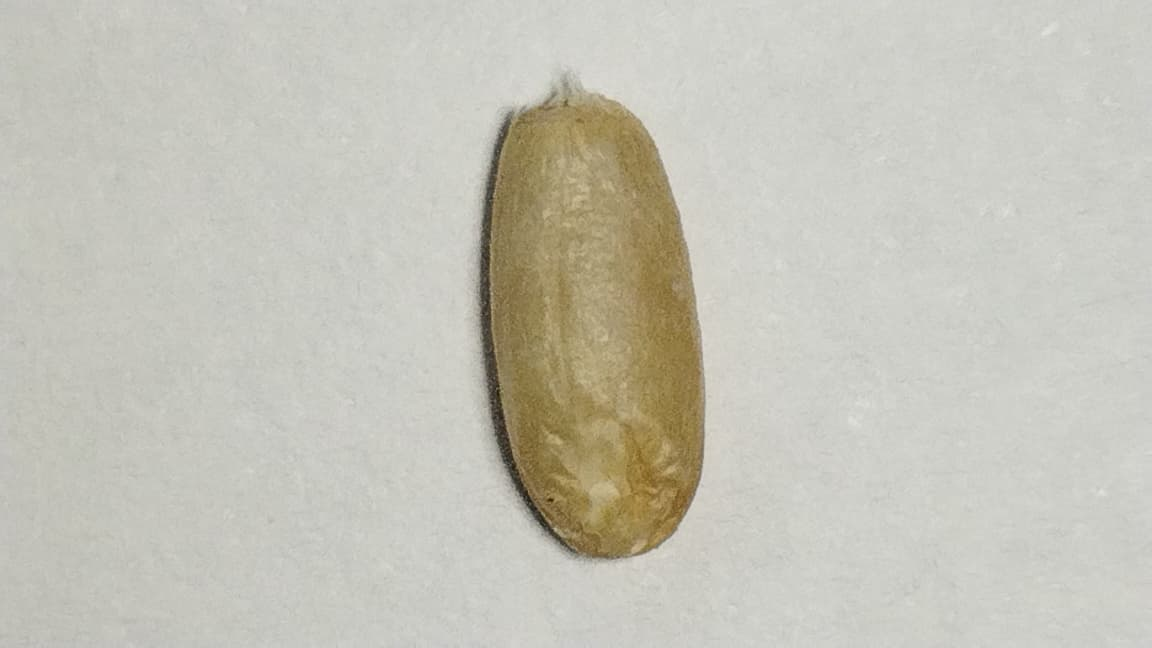healthy: (487, 87, 702, 556)
